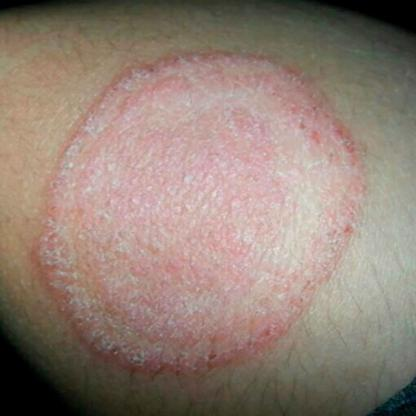Ringworm: (15, 34, 397, 399)
